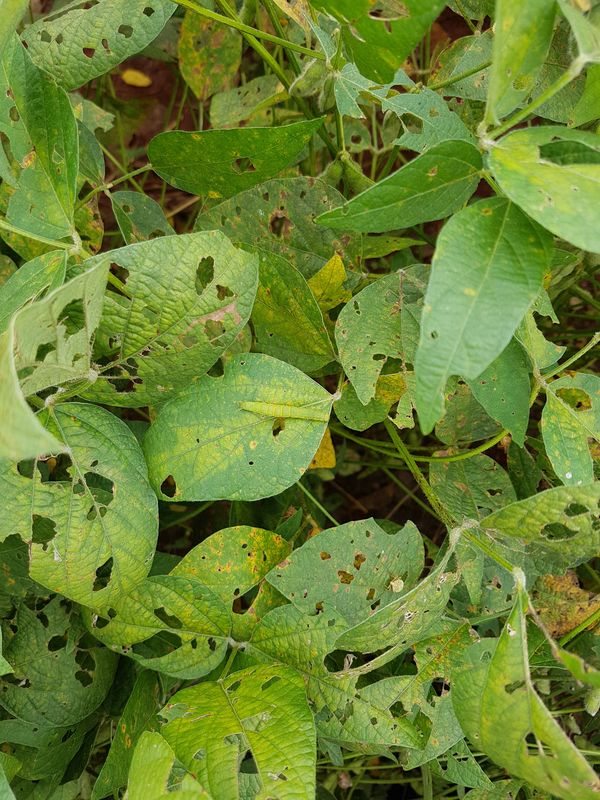Anticarsia_gemmatalis: (227, 387, 339, 441)
Euschistus_heros_ninfa: (380, 567, 413, 598)
